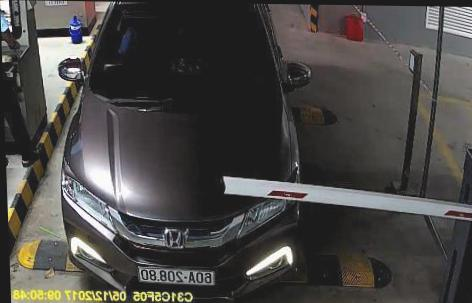License_Plate: (135, 261, 217, 286)
